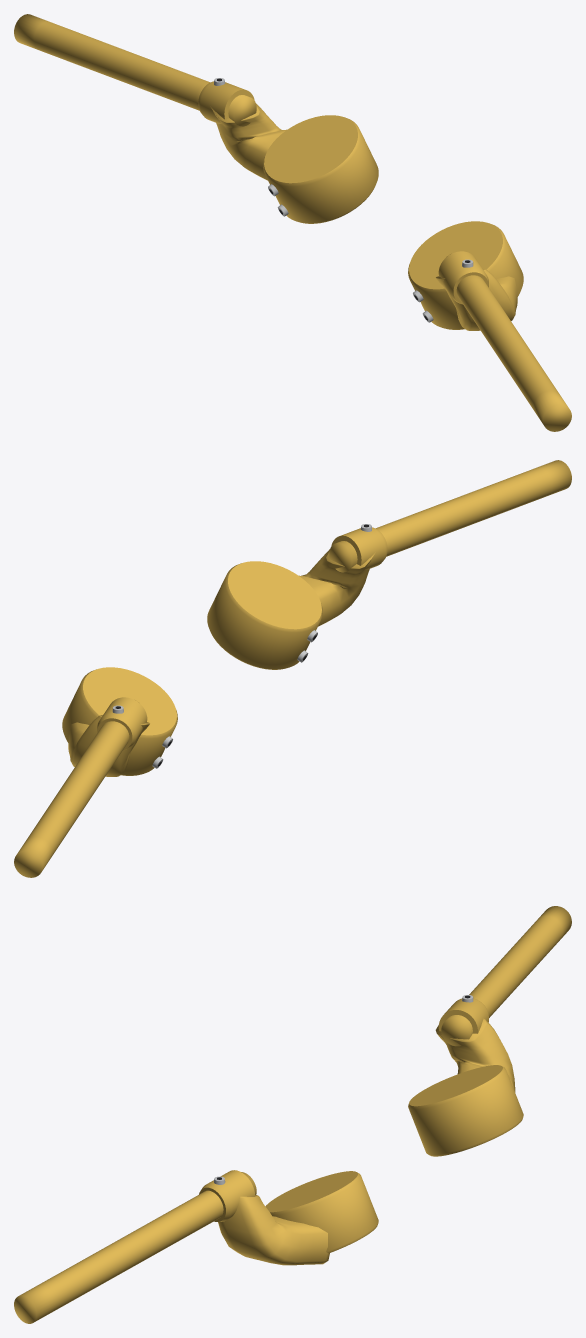
Rendered from clipon_raised.glb.
3 views of the same model, one above another, from view 1: azimuth 30°, elevation 25°; view 2: azimuth 150°, elevation 25°; view 3: azimuth 330°, elevation 25° (orthographic).
Parts seen in each view (by area): view 1: bar_clipon_raised; view 2: bar_clipon_raised; view 3: bar_clipon_raised.
Boxes of the visible parts, left/top/right/bottom form: bar_clipon_raised: left=14, top=14, right=571, bottom=431; bar_clipon_raised: left=14, top=460, right=571, bottom=877; bar_clipon_raised: left=14, top=906, right=571, bottom=1323.
Size of the model in its own units: 0.1383 by 0.0846 by 0.7757.
